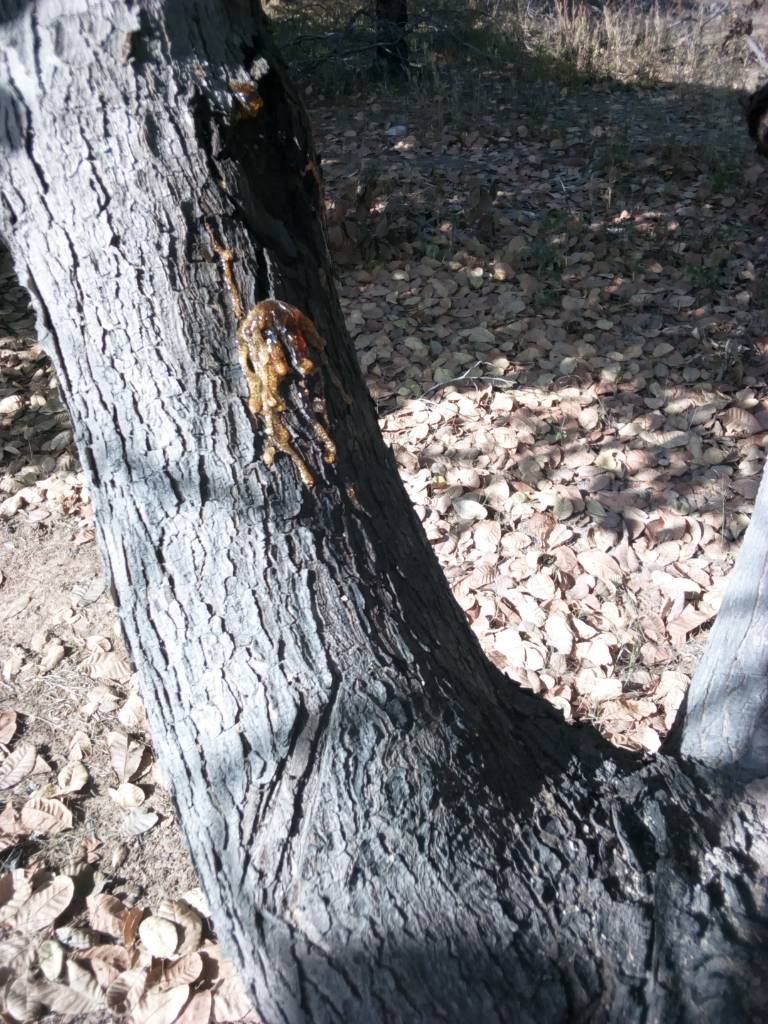Gommose: (196, 230, 360, 502), (205, 55, 322, 191)
